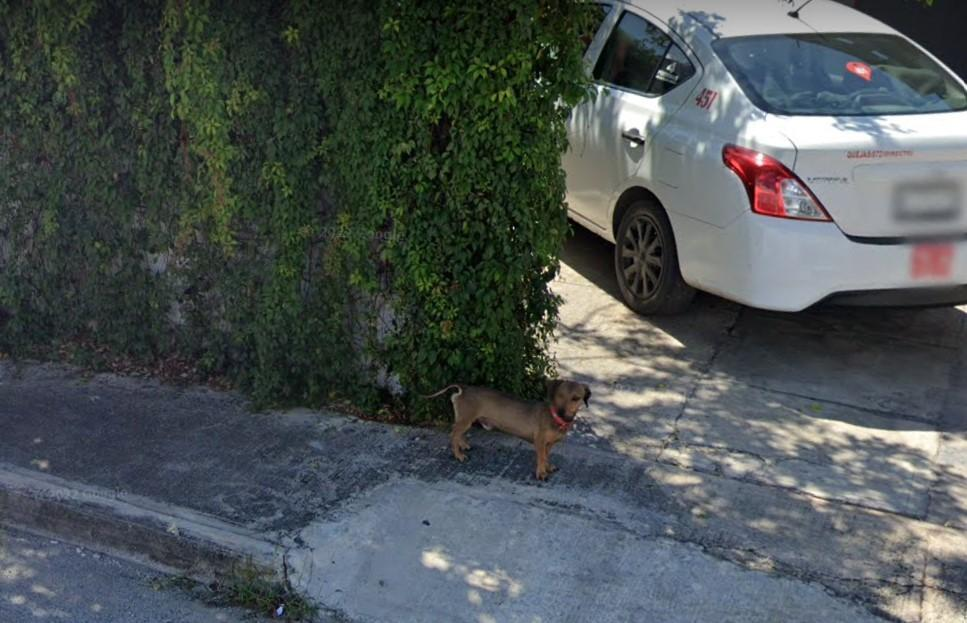normal_dogs: (411, 352, 603, 493)
